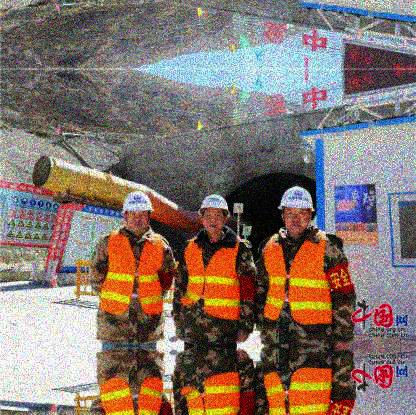helmet: (276, 185, 318, 234), (122, 192, 155, 233), (199, 194, 230, 233)
